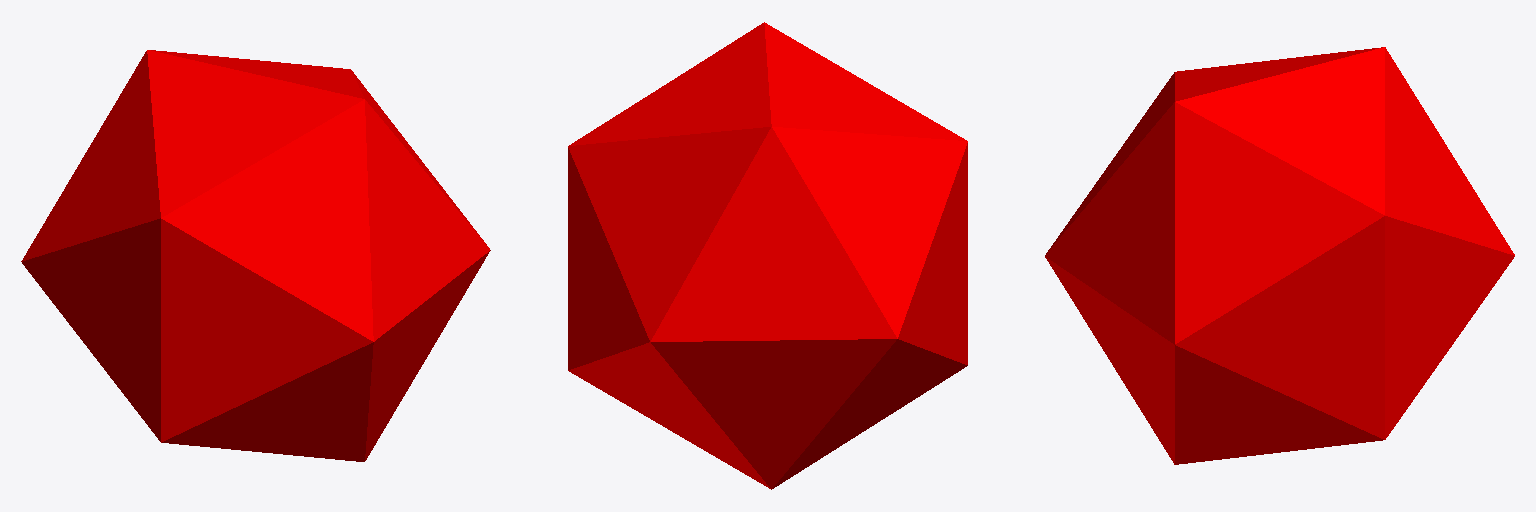
File: target_no_outline.obj
3 views of the same model, side by side, from view 1: azimuth 30°, elevation 25°; view 2: azimuth 150°, elevation 25°; view 3: azimuth 270°, elevation 25° (orthographic).
Visible parts, largest first — view 1: core; view 2: core; view 3: core.
Boxes of the visible parts, x1=… form: core: x1=21, y1=50, x2=490, y2=461; core: x1=568, y1=22, x2=967, y2=489; core: x1=1045, y1=47, x2=1514, y2=464.
Bounding box in the file's own units: 1.79 × 1.7 × 2.